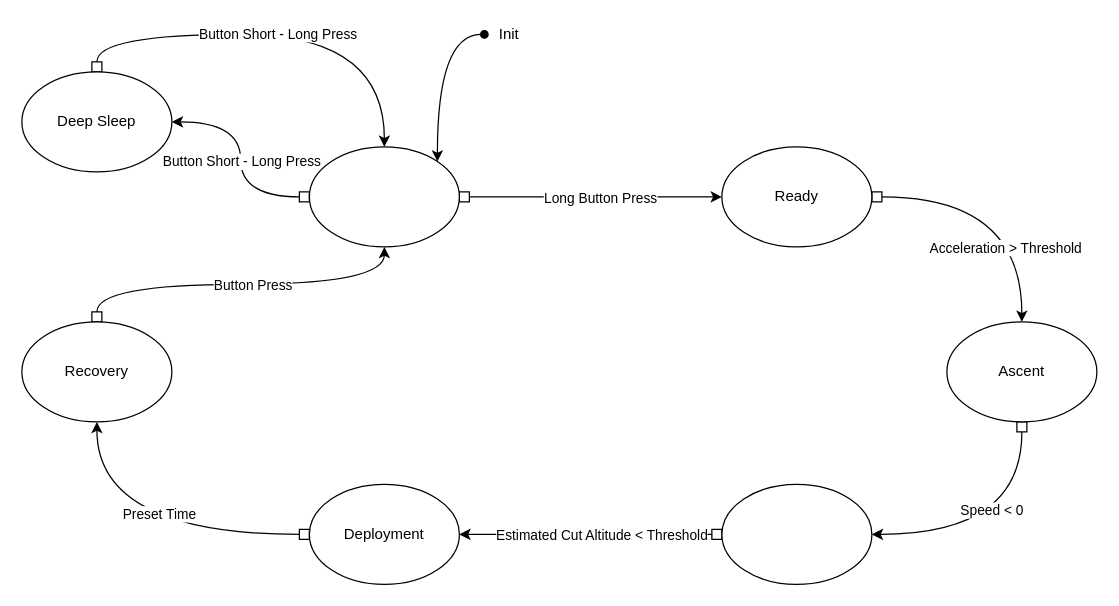
Image size: 1119x606. Some labels were removed from this diagram. Here are the shapes that lost their labels. From the top down, the centre of each, then its label:
At point 383,196: "Idle".
At point 796,533: "Descent".
